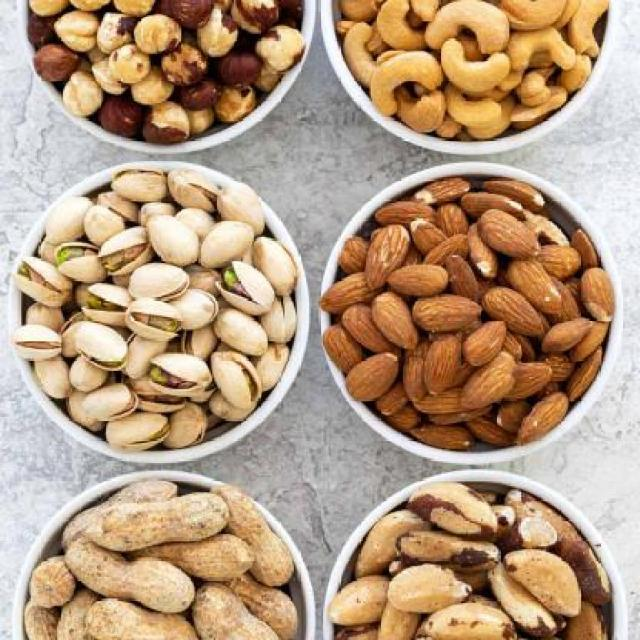Frutta secca: (14, 164, 302, 458), (328, 181, 616, 450), (17, 476, 294, 639), (336, 477, 608, 640), (27, 0, 316, 143), (334, 1, 612, 144)
